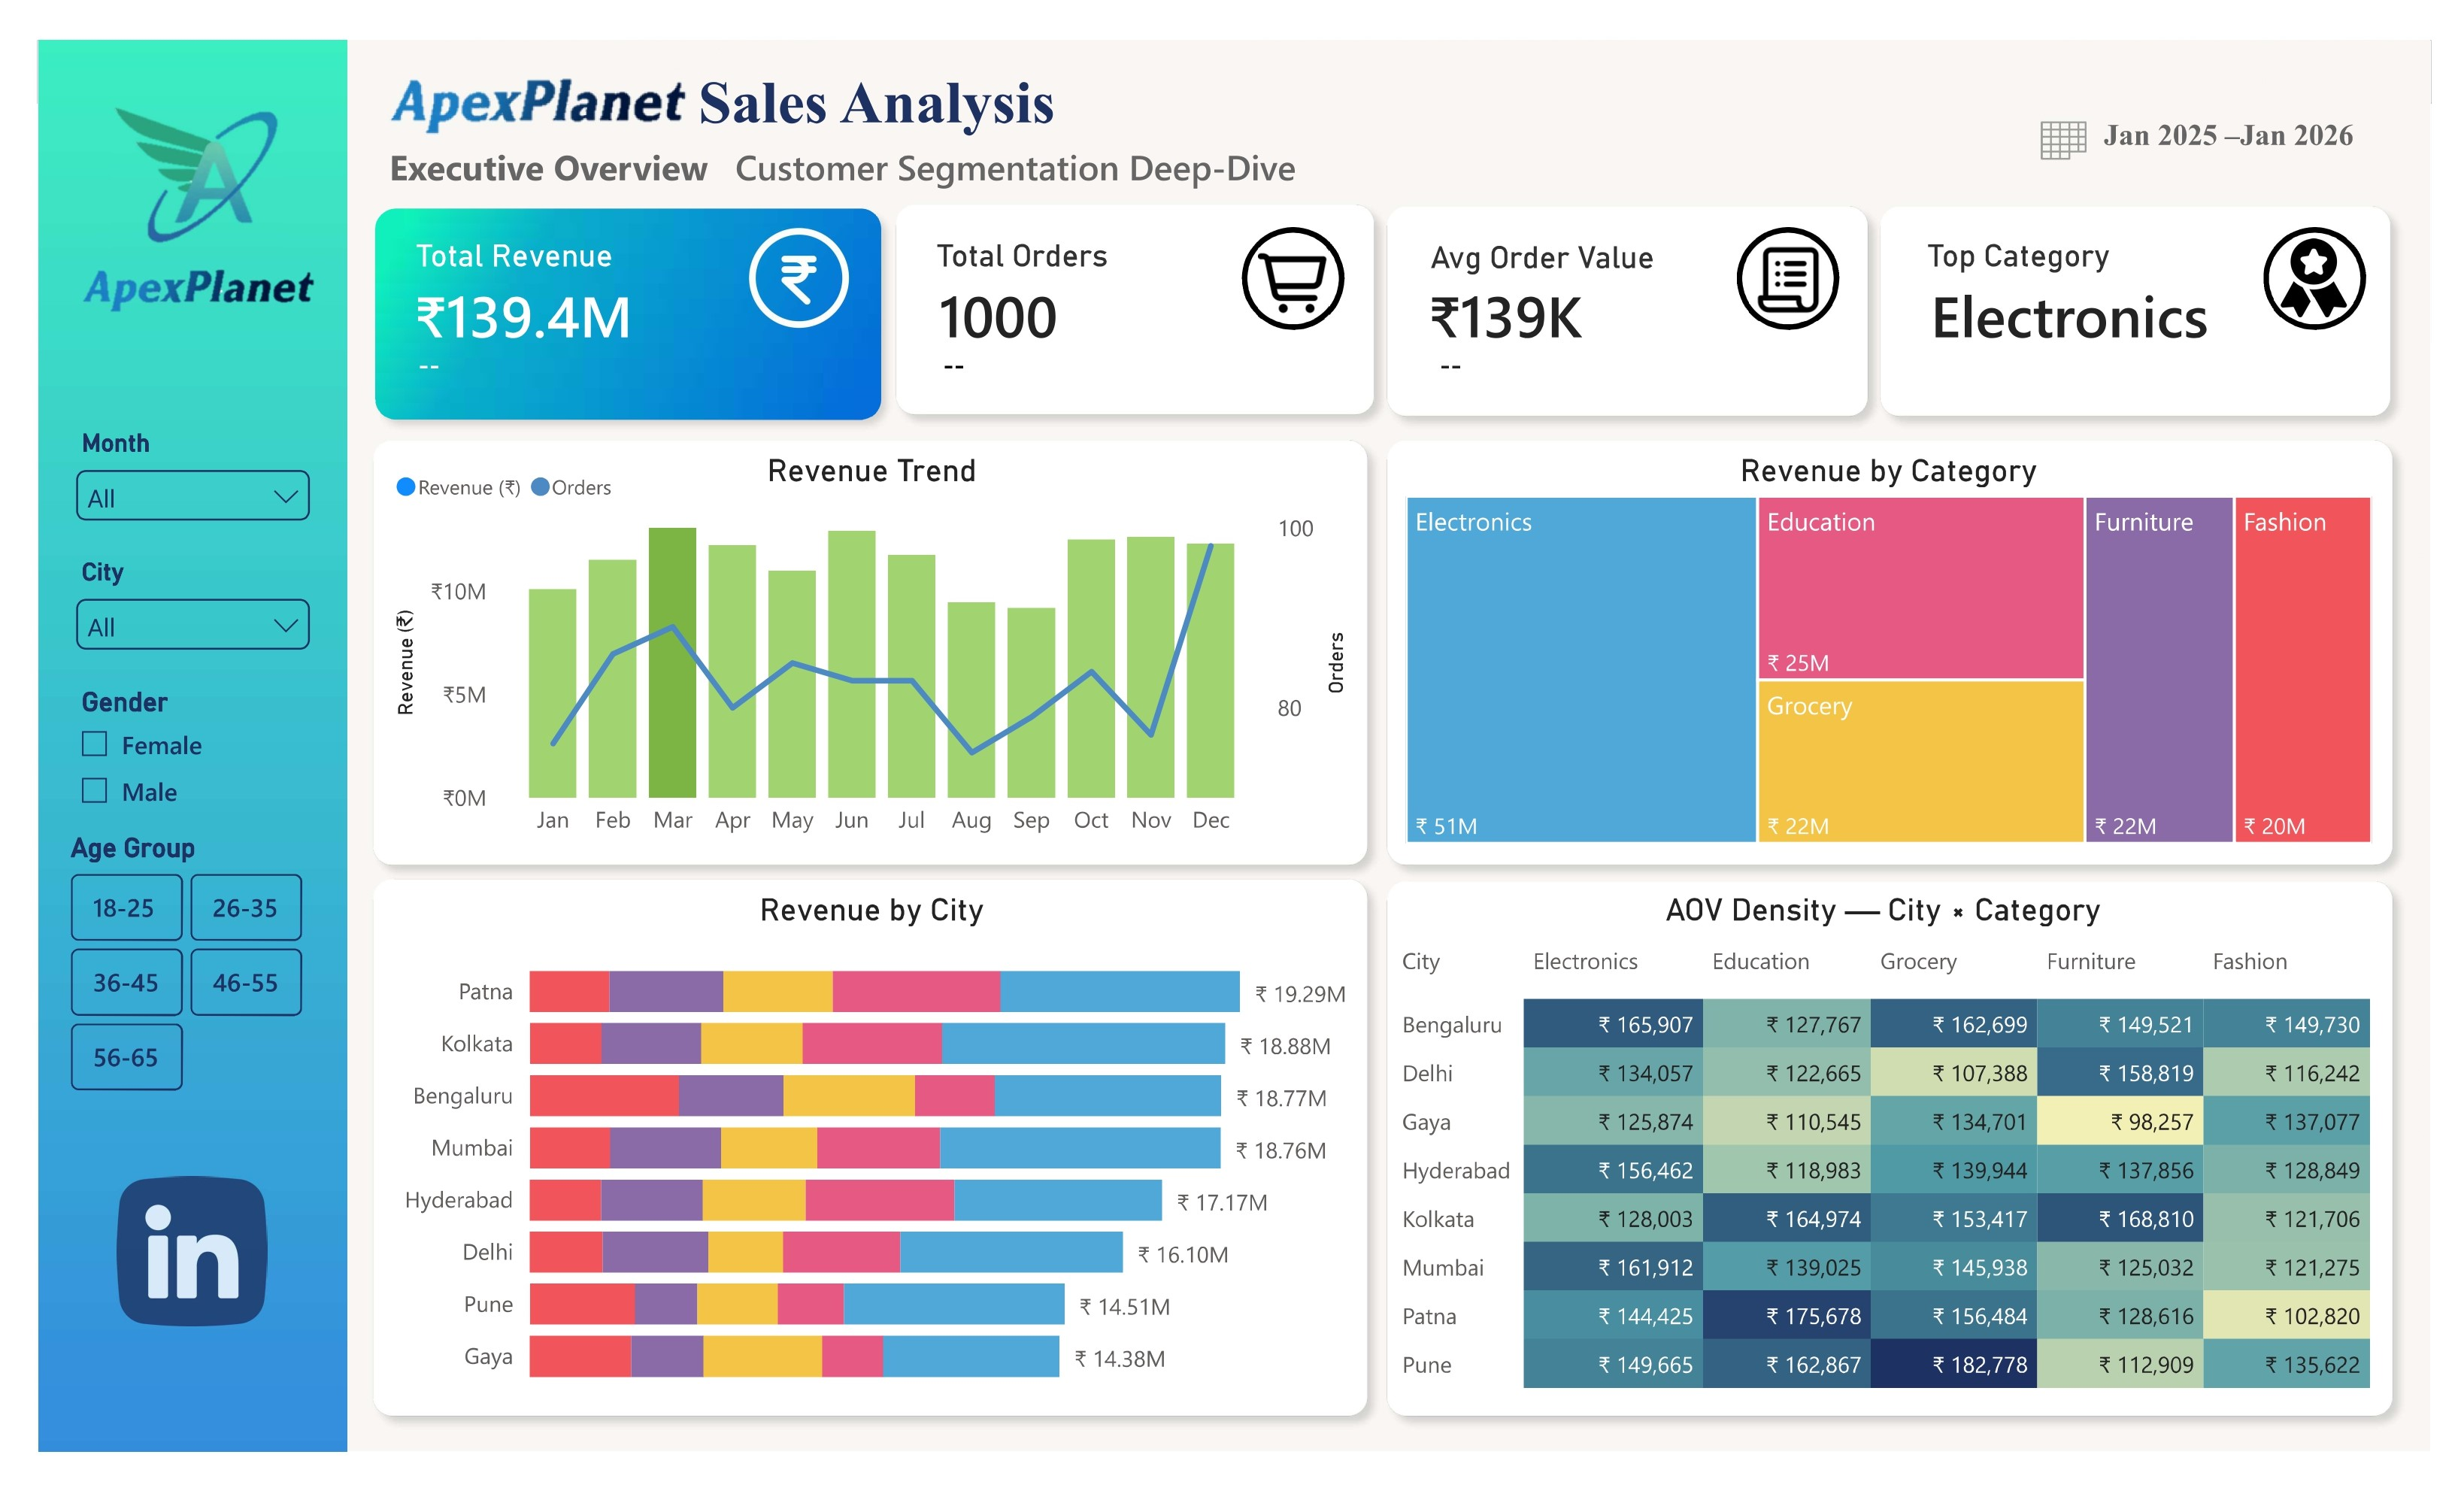

The page's visual inventory and layout, read from the dashboard file:
{"tool":"powerbi","page":{"name":"Executive Overview","canvas":[1280,755],"ordinal":0},"visuals":[{"type":"image","box":[0,0,165,755],"z":0},{"type":"shape","box":[170.6,80.7,288.4,130],"z":1000},{"type":"shape","box":[712.5,205,556.2,245],"z":1000,"group":"g4"},{"type":"image","box":[180,90,271,113],"z":2000},{"type":"shape","box":[449.7,79.4,273.8,130],"z":3000},{"type":"shape","box":[713,80,275.1,130],"z":4000},{"type":"shape","box":[977.5,79.9,290.9,129.8],"z":5000},{"type":"shape","box":[1191,100,54.8,54.8],"z":5500,"group":"g3"},{"type":"textbox","box":[340,10,220.2,53.6],"z":6000},{"type":"shape","box":[170,205,550,245],"z":6000,"group":"g4"},{"type":"cardVisual","fields":{"Data":["cleaned_sales-data.Total Revenue"]},"box":[172,110,198.8,70.2],"z":7000},{"type":"shape","box":[170,440,550,305],"z":7000,"group":"g4"},{"type":"cardVisual","fields":{"Data":["cleaned_sales-data.Top Category"]},"box":[984,110,210,70.2],"z":8000},{"type":"shape","box":[712.5,441.2,556.2,303.8],"z":8000,"group":"g4"},{"type":"cardVisual","fields":{"Data":["cleaned_sales-data.Total Orders"]},"box":[453,110,135.7,70.2],"z":9000},{"type":"cardVisual","fields":{"Data":["cleaned_sales-data.AOV"]},"box":[715,110,159.5,70.2],"z":10000},{"type":"image","box":[37,25.1,95.2,90.5],"z":11000},{"type":"lineStackedColumnComboChart","title":"Revenue Trend","fields":{"Category":["cleaned_sales-data.Order_Month_Label"],"Y":["Sum(cleaned_sales-data.Total_Sales)"],"Y2":["Count(cleaned_sales-data.Order_ID)"]},"box":[186.2,220,520,215],"z":11000,"group":"g4"},{"type":"treemap","title":"Revenue by Category","fields":{"Group":["cleaned_sales-data.Category"],"Values":["Sum(cleaned_sales-data.Total_Sales)"]},"box":[727,220,527,215],"z":12000,"group":"g4"},{"type":"slicer","fields":{"Values":["cleaned_sales-data.City"]},"box":[10,272.1,145,68.8],"z":12000},{"type":"slicer","fields":{"Values":["cleaned_sales-data.Gender"]},"box":[10,340.8,144.8,83.6],"z":13000},{"type":"barChart","title":"Revenue by City","fields":{"Category":["cleaned_sales-data.City"],"Series":["cleaned_sales-data.Category"],"Y":["Sum(cleaned_sales-data.Total_Sales)"]},"box":[185.8,454.9,520,277.5],"z":13000,"group":"g4"},{"type":"advancedSlicerVisual","fields":{"Values":["cleaned_sales-data.Age_Group"]},"box":[12.5,424.4,140,146.2],"z":14000},{"type":"pivotTable","title":"AOV Density — City × Category","fields":{"Columns":["cleaned_sales-data.Category"],"Rows":["cleaned_sales-data.City"],"Values":["cleaned_sales-data.AOV"]},"box":[720.2,455.3,534.5,277.4],"z":14000,"group":"g4"},{"type":"textbox","box":[192,100,125,33.3],"z":15000},{"type":"textbox","box":[469,100,115,33],"z":16000},{"type":"image","box":[1197,105,42,44],"z":16000,"group":"g3"},{"type":"textbox","box":[1000,100,120,33.3],"z":17000},{"type":"textbox","box":[735,100.5,140,33],"z":18000},{"type":"slicer","fields":{"Values":["cleaned_sales-data.Order_Month_Name"]},"box":[10,203.5,145,68.8],"z":19000},{"type":"image","box":[1069.8,41.2,27,24],"z":20000},{"type":"textbox","box":[180,50,185.8,35],"z":21000},{"type":"actionButton","box":[365.1,50.3,316.1,35],"z":22000},{"type":"textbox","box":[1088.6,37,163.4,32.9],"z":23000},{"type":"image","box":[19.8,112.4,131,45],"z":24000},{"type":"image","box":[379.6,100,54,54],"z":25000},{"type":"image","box":[180,17,175,38.1],"z":26000},{"type":"image","box":[42.4,607.9,79.8,79.8],"z":27000},{"type":"group","id":"g1","title":"Group 1","box":[644,100,54.2,54.2],"z":28000},{"type":"group","id":"g2","title":"Group 2","box":[909,100,55.6,55.6],"z":29000},{"type":"group","id":"g3","title":"Group 3","box":[1191,100,54.8,54.8],"z":30000},{"type":"group","id":"g4","title":"Group 4","box":[170,205,1098.8,540],"z":31000},{"type":"cardVisual","fields":{"Data":["cleaned_sales-data.MoM Revenue Label"]},"box":[198,157.3,165,30],"z":32000},{"type":"cardVisual","fields":{"Data":["cleaned_sales-data.MoM Orders Label"]},"box":[479,157.3,165,30],"z":33000},{"type":"shape","box":[644,100,54.8,54.8],"z":33500,"group":"g1"},{"type":"shape","box":[909,100,54.8,54.8],"z":34000,"group":"g2"},{"type":"cardVisual","fields":{"Data":["cleaned_sales-data.MoM AOV Label"]},"box":[745.3,157.3,165,30],"z":34000},{"type":"textbox","box":[376,215,140,29],"z":34001},{"type":"image","box":[916,103.5,44,49],"z":36000,"group":"g2"},{"type":"image","box":[650.5,110.8,42,38],"z":37000,"group":"g1"}]}

Visuals, with their boxes in screenshot pixels (x1, y1, x2, y2), scaled from the page's 1280x755 canvas onto the 2464x1491 screenshot:
image: crop(0, 0, 317, 1490)
shape: crop(329, 159, 883, 416)
shape: crop(1371, 405, 2442, 889)
image: crop(347, 177, 868, 401)
shape: crop(865, 157, 1393, 414)
shape: crop(1372, 158, 1902, 415)
shape: crop(1882, 158, 2441, 414)
shape: crop(2293, 198, 2398, 306)
textbox: crop(654, 20, 1078, 126)
shape: crop(327, 405, 1386, 889)
cardVisual - cleaned_sales-data.Total Revenue: crop(331, 217, 714, 356)
shape: crop(327, 869, 1386, 1471)
cardVisual - cleaned_sales-data.Top Category: crop(1894, 217, 2299, 356)
shape: crop(1371, 871, 2442, 1471)
cardVisual - cleaned_sales-data.Total Orders: crop(872, 217, 1133, 356)
cardVisual - cleaned_sales-data.AOV: crop(1377, 217, 1684, 356)
image: crop(71, 50, 254, 229)
"Revenue Trend" lineStackedColumnComboChart: crop(359, 435, 1359, 859)
"Revenue by Category" treemap: crop(1399, 435, 2414, 859)
slicer - cleaned_sales-data.City: crop(20, 538, 299, 673)
slicer - cleaned_sales-data.Gender: crop(20, 673, 298, 838)
"Revenue by City" barChart: crop(358, 899, 1359, 1447)
advancedSlicerVisual - cleaned_sales-data.Age_Group: crop(24, 838, 293, 1127)
"AOV Density — City × Category" pivotTable: crop(1387, 899, 2415, 1447)
textbox: crop(370, 198, 611, 263)
textbox: crop(903, 198, 1124, 262)
image: crop(2305, 208, 2385, 294)
textbox: crop(1925, 198, 2156, 263)
textbox: crop(1415, 198, 1684, 264)
slicer - cleaned_sales-data.Order_Month_Name: crop(20, 402, 299, 538)
image: crop(2059, 81, 2111, 129)
textbox: crop(347, 98, 705, 168)
actionButton: crop(703, 99, 1311, 168)
textbox: crop(2096, 73, 2410, 138)
image: crop(38, 222, 290, 311)
image: crop(731, 198, 835, 304)
image: crop(347, 34, 683, 109)
image: crop(82, 1201, 235, 1358)
"Group 1" group: crop(1240, 198, 1344, 305)
"Group 2" group: crop(1750, 198, 1857, 308)
"Group 3" group: crop(2293, 198, 2398, 306)
"Group 4" group: crop(327, 405, 2442, 1471)
cardVisual - cleaned_sales-data.MoM Revenue Label: crop(381, 311, 699, 370)
cardVisual - cleaned_sales-data.MoM Orders Label: crop(922, 311, 1240, 370)
shape: crop(1240, 198, 1345, 306)
shape: crop(1750, 198, 1855, 306)
cardVisual - cleaned_sales-data.MoM AOV Label: crop(1435, 311, 1753, 370)
textbox: crop(724, 425, 993, 482)
image: crop(1763, 205, 1848, 302)
image: crop(1252, 219, 1333, 294)
